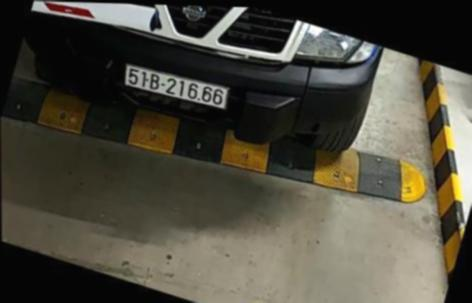License_Plate: (117, 57, 240, 120)
